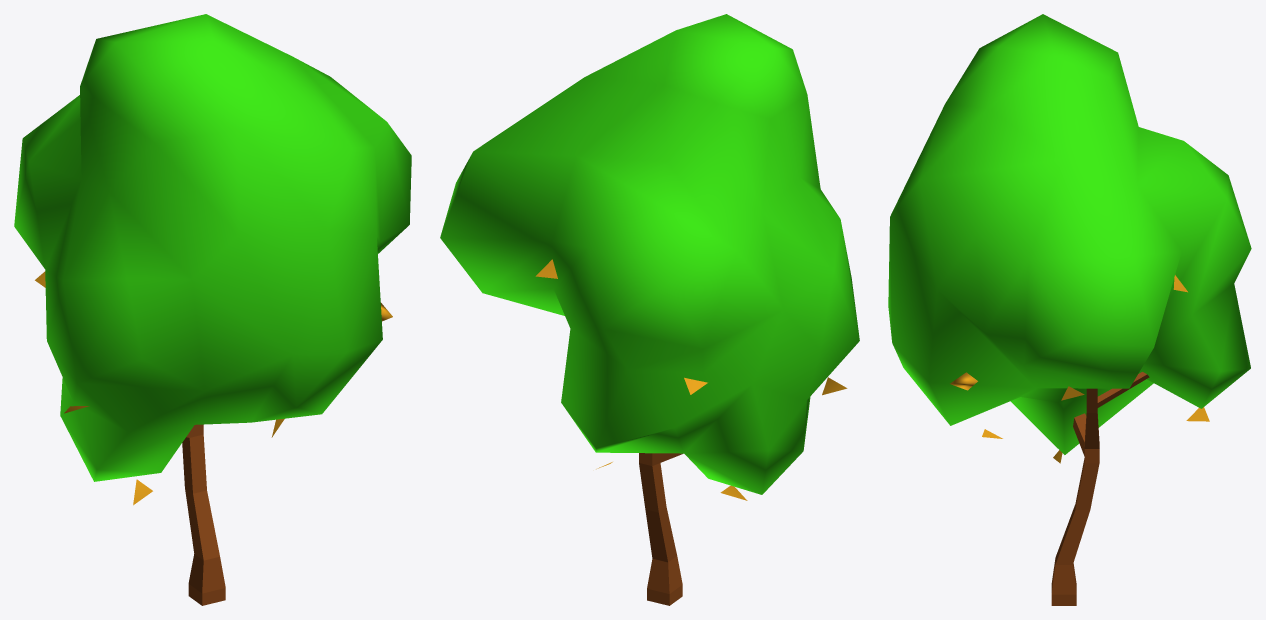
File: SM_OrangeTree_001_LOD6.fbx
3 views of the same model, side by side, from view 1: azimuth 30°, elevation 25°; view 2: azimuth 150°, elevation 25°; view 3: azimuth 270°, elevation 25° (orthographic). The views are drawn at different scales.
Visible parts, largest first — view 1: OrangeTree_01; view 2: OrangeTree_01; view 3: OrangeTree_01.
Part boxes in pixels (bbox=[...]): OrangeTree_01: bbox=[14, 14, 411, 605]; OrangeTree_01: bbox=[440, 14, 859, 605]; OrangeTree_01: bbox=[888, 14, 1251, 605].
Size of the model in its own units: 182 by 271 by 165.
